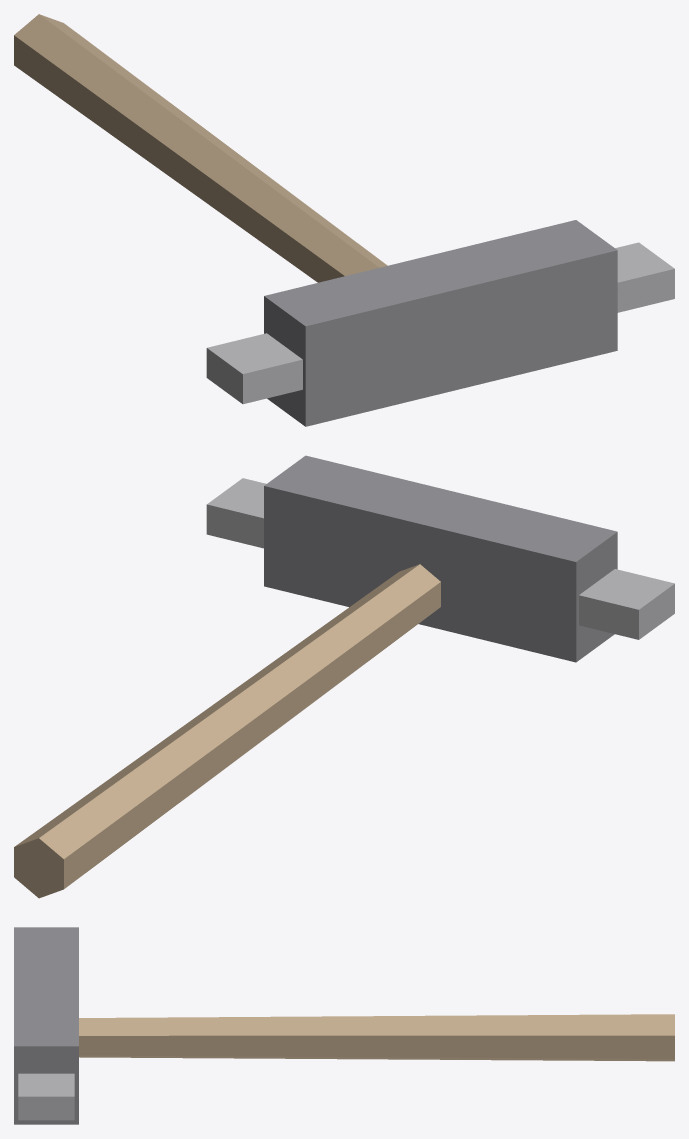
Rendered from prop-raising-hammer-cs1.fbx.
The picture shows the model from 3 angles, top to bottom: view 1: azimuth 30°, elevation 25°; view 2: azimuth 150°, elevation 25°; view 3: azimuth 270°, elevation 25°; orthographic projection. The views are drawn at different scales.
Parts seen in each view (by area): view 1: prop-raising-hammer-cs1; view 2: prop-raising-hammer-cs1; view 3: prop-raising-hammer-cs1.
Part boxes in pixels (left/top/right/bottom): prop-raising-hammer-cs1: left=14, top=14, right=674, bottom=426; prop-raising-hammer-cs1: left=14, top=455, right=674, bottom=898; prop-raising-hammer-cs1: left=14, top=927, right=674, bottom=1124.
Size of the model in its own units: 18 by 4 by 30.5.
